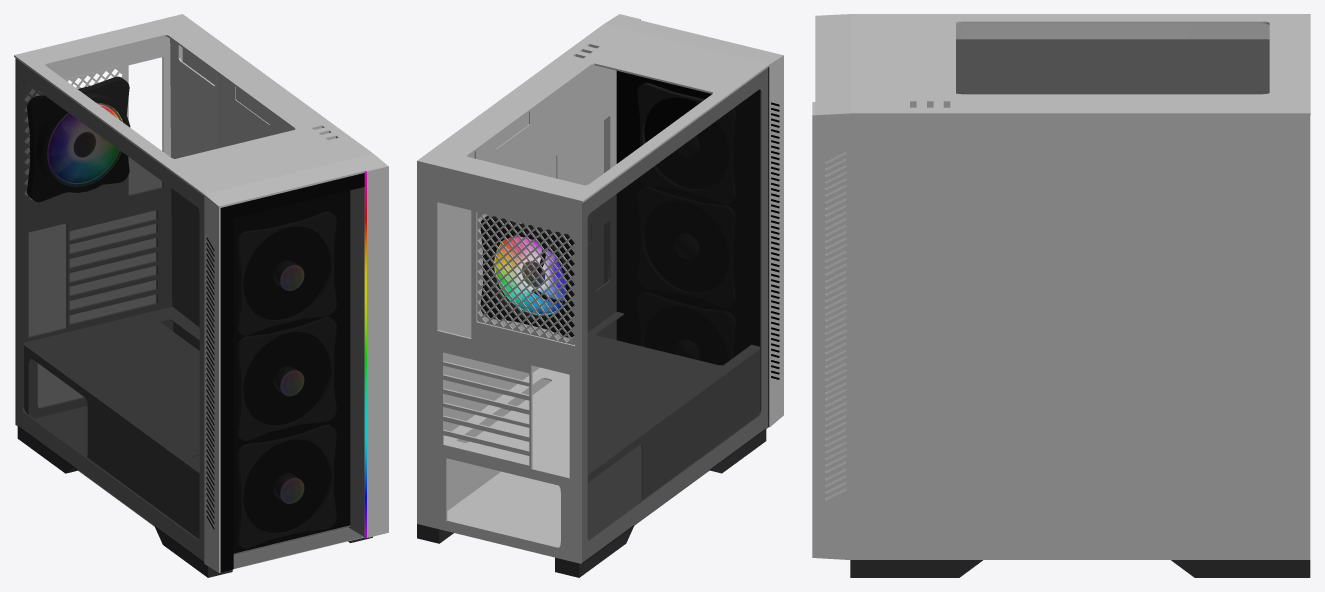
Rendered from case-midtower.glb.
3 renders of one model, left to right at view 1: azimuth 30°, elevation 25°; view 2: azimuth 150°, elevation 25°; view 3: azimuth 270°, elevation 25°, orthographic. The views are drawn at different scales.
Visible parts, largest first — view 1: Cube.007_20, Cube.154_380, Cube.004_17, Cube.005_18, Cube.002_15, Cube.050_192, Cube.049_193, Cube.052_215, Cube.051_204, Cylinder.076_228, Cube.053_226, Cylinder.075_227 (+6 smaller); view 2: Cube.007_20, Cube.154_380, Cube.002_15, Cube.005_18, Plane.002_242, Cube.051_204, Cube.049_193, Cylinder.076_228, Cube.003_16, Cube.053_226, Cube.052_215, Cylinder.075_227 (+2 smaller); view 3: Cube.007_20, Cube.154_380, Cube.003_16.
Part boxes in pixels (<box>): Cube.007_20: <box>14,14,388,572</box>; Cube.154_380: <box>15,58,204,562</box>; Cube.004_17: <box>233,187,364,568</box>; Cube.005_18: <box>206,190,350,553</box>; Cube.002_15: <box>24,307,349,554</box>; Cube.050_192: <box>220,173,364,572</box>; Cube.049_193: <box>236,211,336,335</box>; Cube.052_215: <box>236,424,336,548</box>; Cube.051_204: <box>236,317,336,440</box>; Cylinder.076_228: <box>47,102,122,186</box>; Cube.053_226: <box>27,76,129,201</box>; Cylinder.075_227: <box>36,93,130,192</box>; Cube.007_20: <box>417,14,783,563</box>; Cube.154_380: <box>581,67,768,563</box>; Cube.002_15: <box>444,312,759,512</box>; Cube.005_18: <box>616,71,759,364</box>; Plane.002_242: <box>477,212,574,344</box>; Cube.051_204: <box>637,186,735,307</box>; Cube.049_193: <box>637,82,735,204</box>; Cylinder.076_228: <box>494,236,565,315</box>; Cube.003_16: <box>417,429,766,577</box>; Cube.053_226: <box>480,215,574,337</box>; Cube.052_215: <box>637,292,735,360</box>; Cylinder.075_227: <box>483,223,571,325</box>; Cube.007_20: <box>812,14,1310,559</box>; Cube.154_380: <box>956,39,1269,94</box>; Cube.003_16: <box>850,560,1310,577</box>.
Size of the model in its own units: 2.24 by 4.88 by 4.74.
8 materials, 2 textured.
